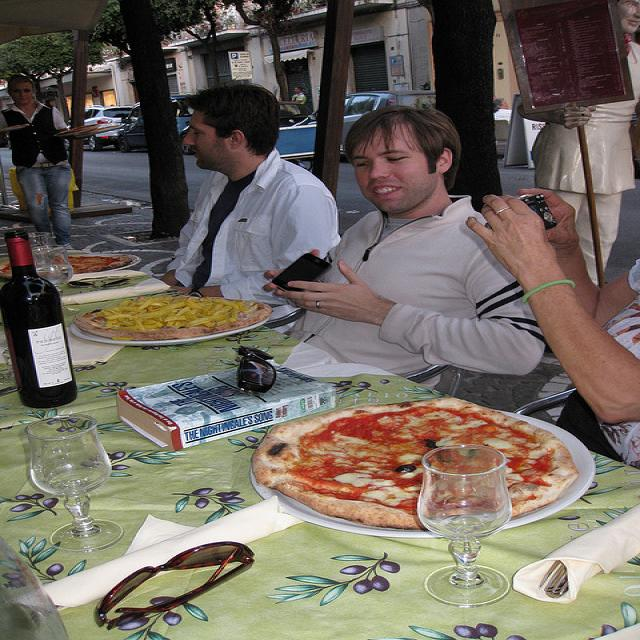Vehicle: (342, 88, 436, 156), (84, 106, 134, 151), (278, 101, 317, 125)
